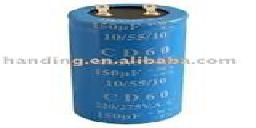Electrolytic-Capacitor: (67, 2, 188, 127)
